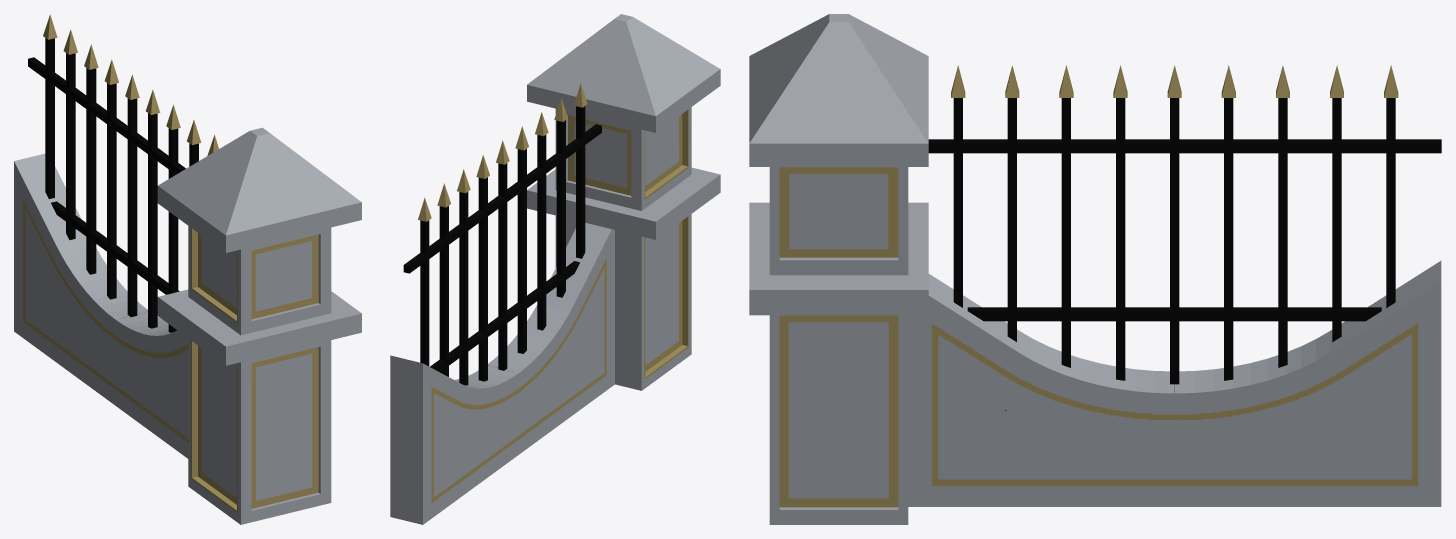
File: P_B_FENCE CONNECT.fbx
3 views of the same model, side by side, from view 1: azimuth 30°, elevation 25°; view 2: azimuth 150°, elevation 25°; view 3: azimuth 270°, elevation 25° (orthographic). The views are drawn at different scales.
Visible parts, largest first — view 1: B_Fence_Connect; view 2: B_Fence_Connect; view 3: B_Fence_Connect.
Part boxes in pixels (left/top/right/bottom): B_Fence_Connect: left=14, top=14, right=361, bottom=524; B_Fence_Connect: left=390, top=14, right=720, bottom=524; B_Fence_Connect: left=749, top=14, right=1441, bottom=524.
Size of the model in its own units: 148 by 376 by 494.
